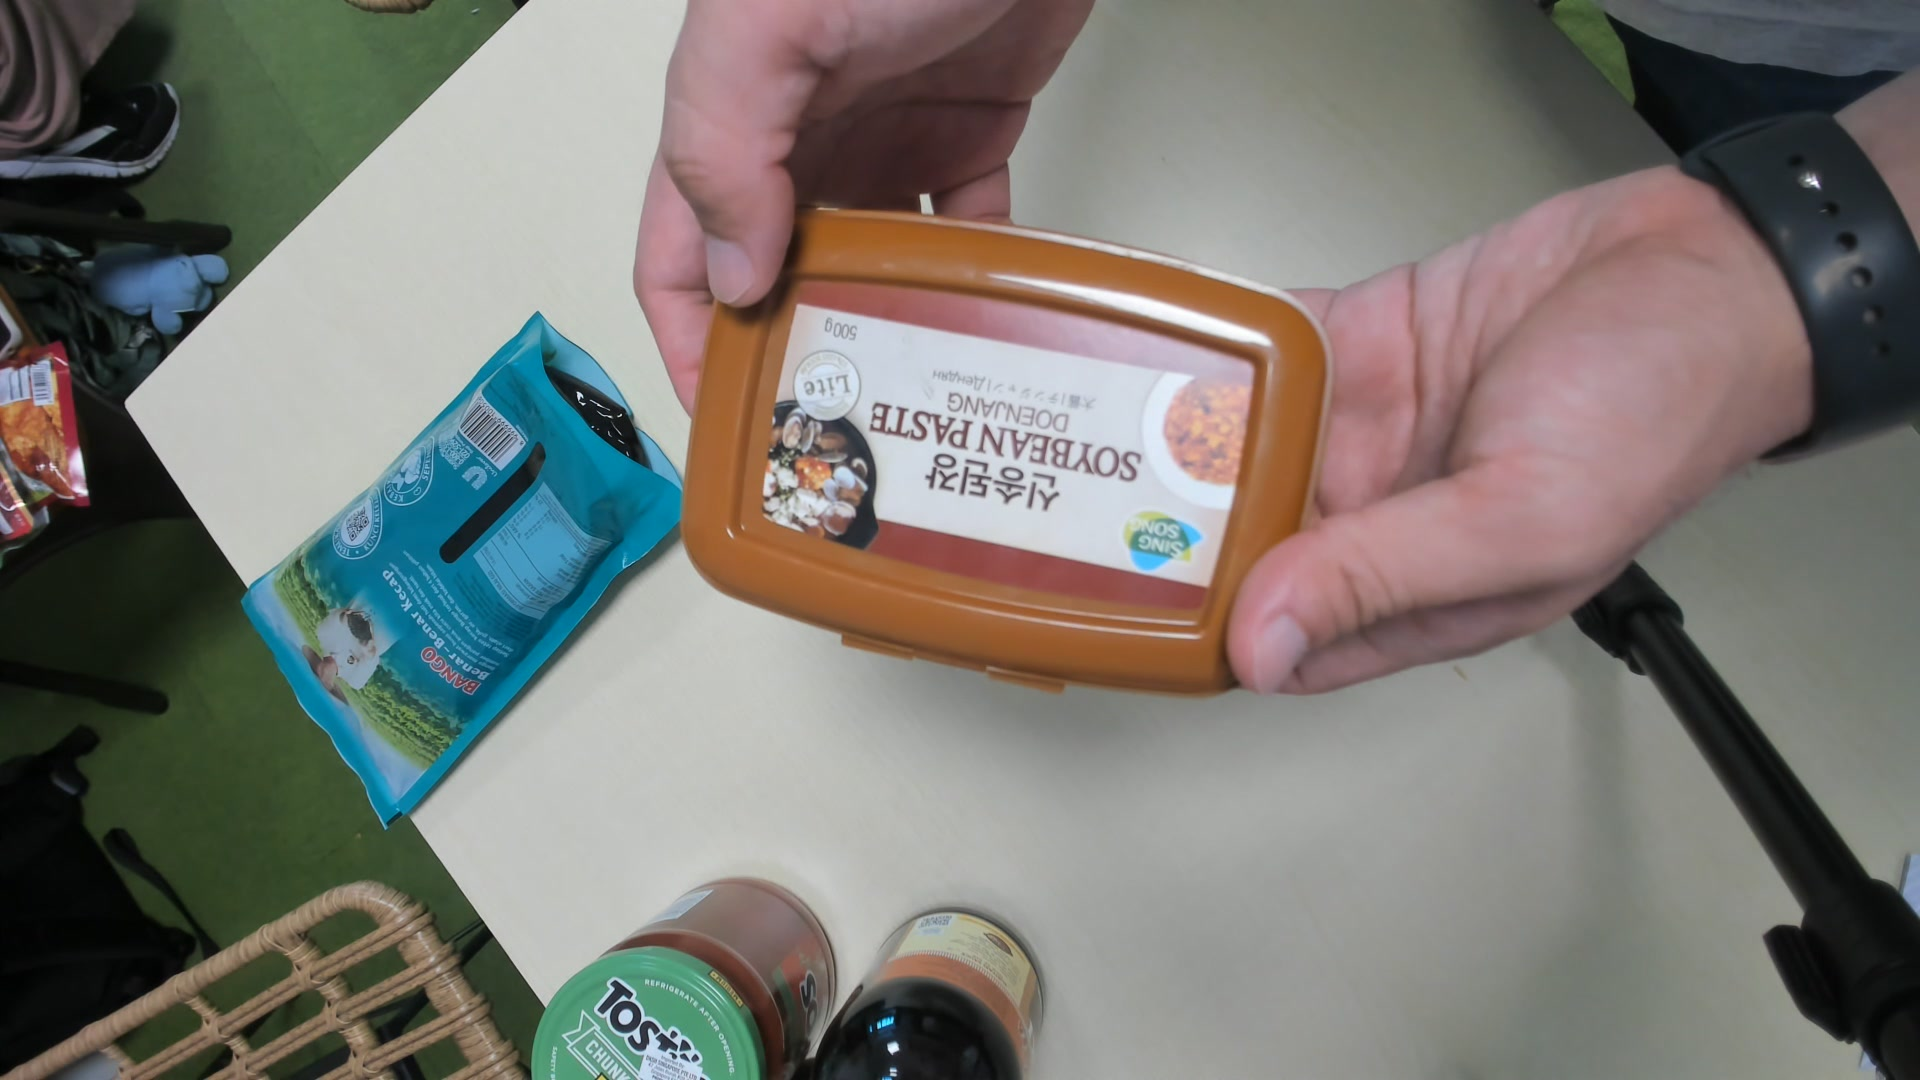OtherSauceDressing_500-599g_NonHalal_NonHealthy: (688, 202, 1331, 712)
